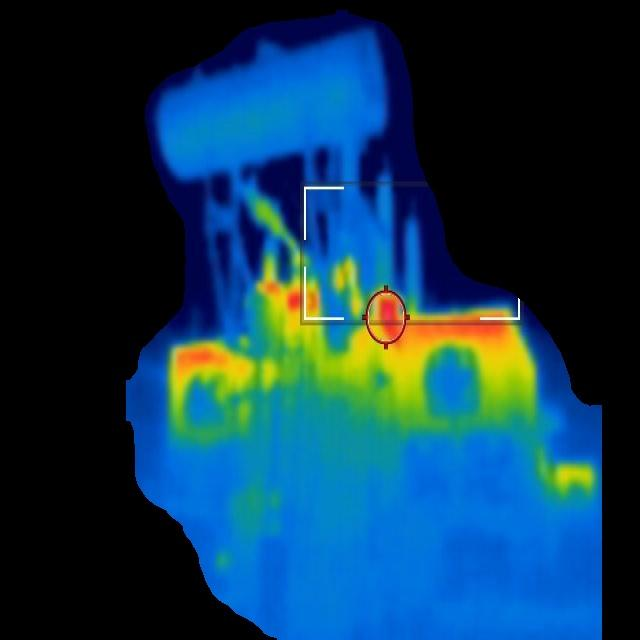Loose Joint F: (262, 276, 324, 326), (364, 285, 413, 333)
Transformer Overload: (167, 305, 547, 426)
